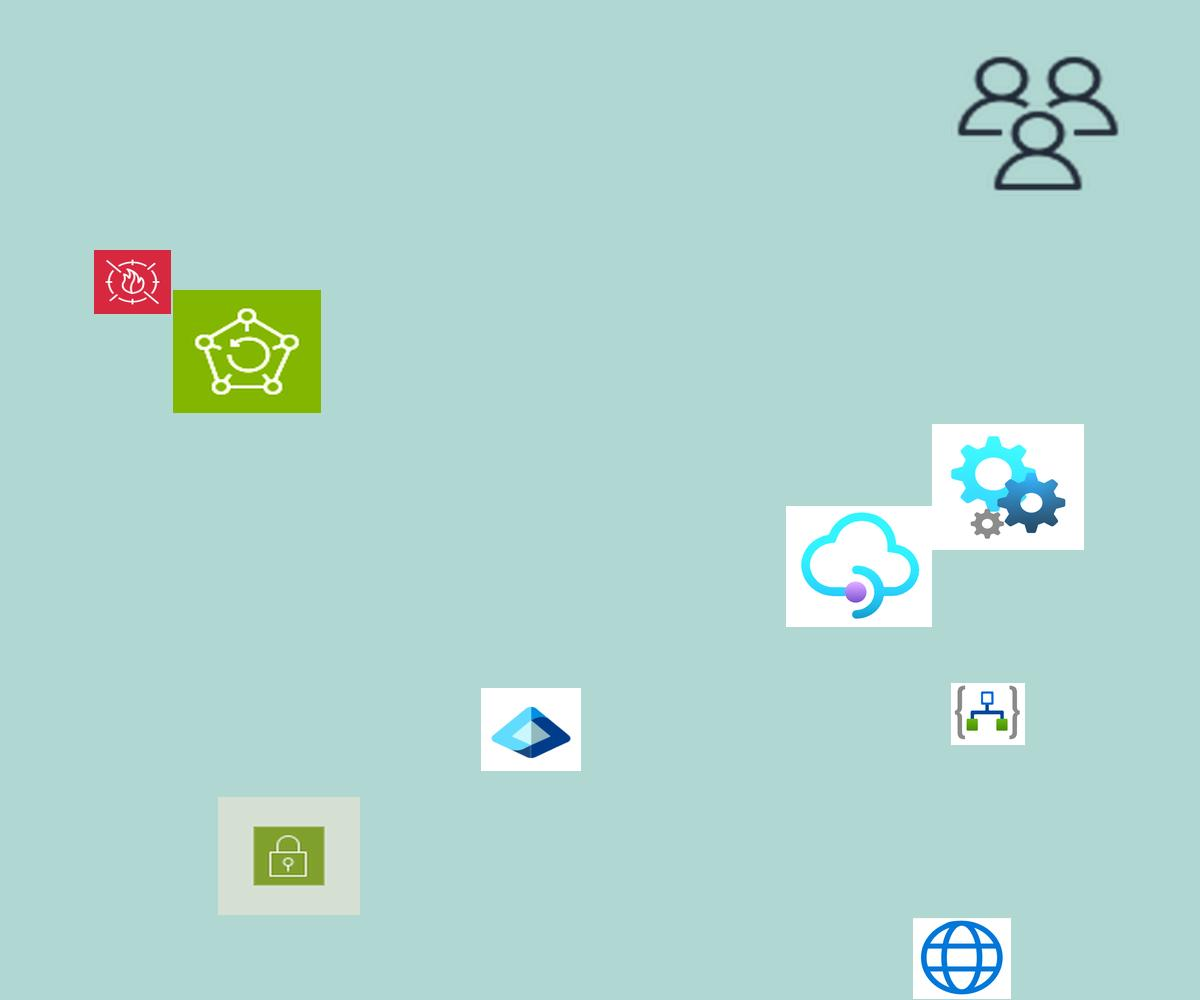AWS-Backup: (173, 290, 321, 413)
AWS-Public-subnet: (218, 797, 360, 915)
AWS-Res_Users: (951, 51, 1125, 196)
AWS-WAF: (94, 250, 171, 314)
Azure_api: (932, 424, 1084, 550)
Azure_api_gateway: (786, 506, 932, 627)
Azure_http: (913, 918, 1011, 999)
Azure_integration-204-Logic-Apps: (951, 683, 1025, 745)
Azure_microsoft_entra: (481, 688, 581, 771)
